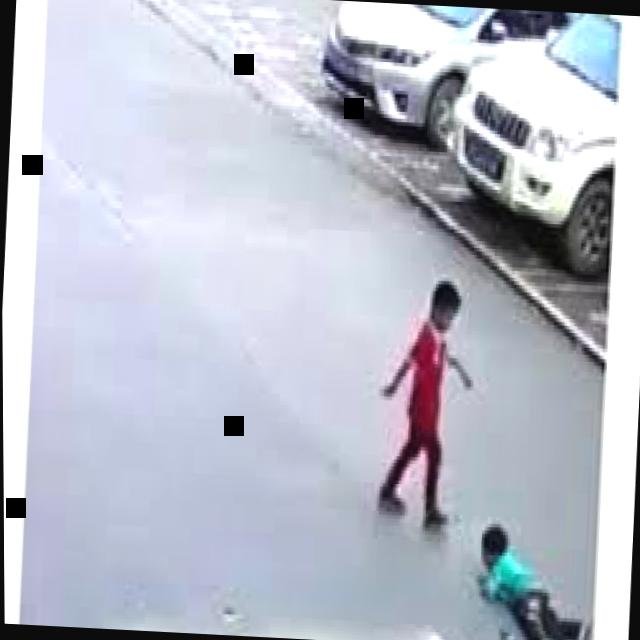Fall-Detected: (465, 502, 603, 640)
